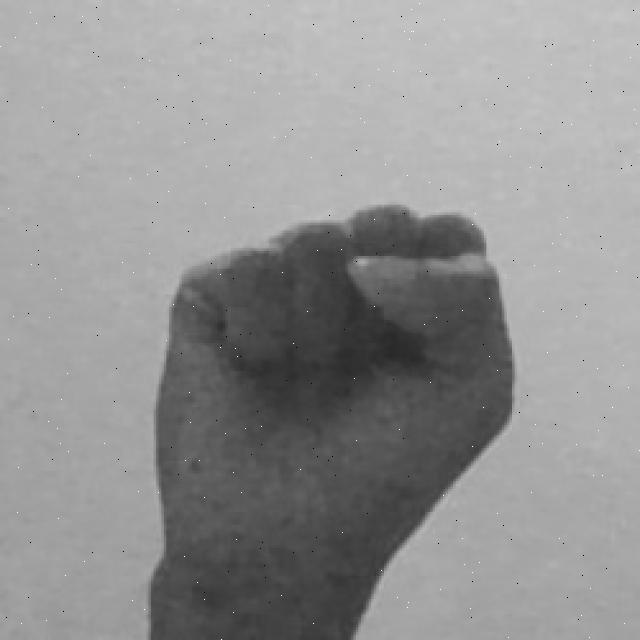S: (136, 196, 521, 640)
